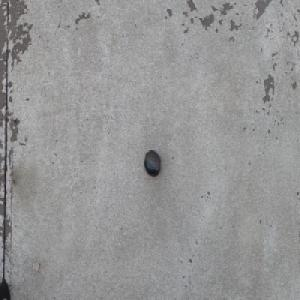FuelCap: (143, 148, 161, 176)
